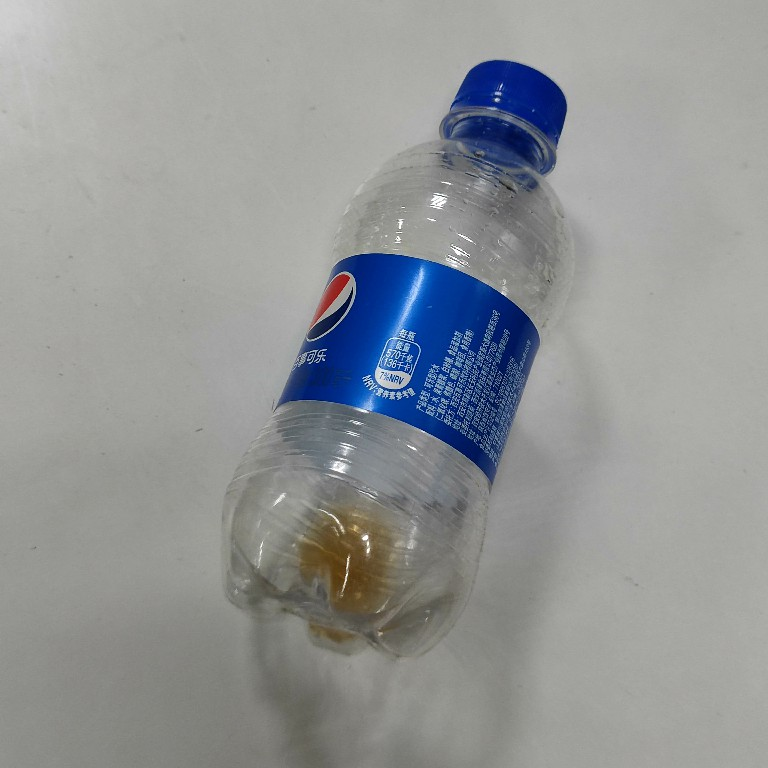bottle: (209, 56, 580, 666)
